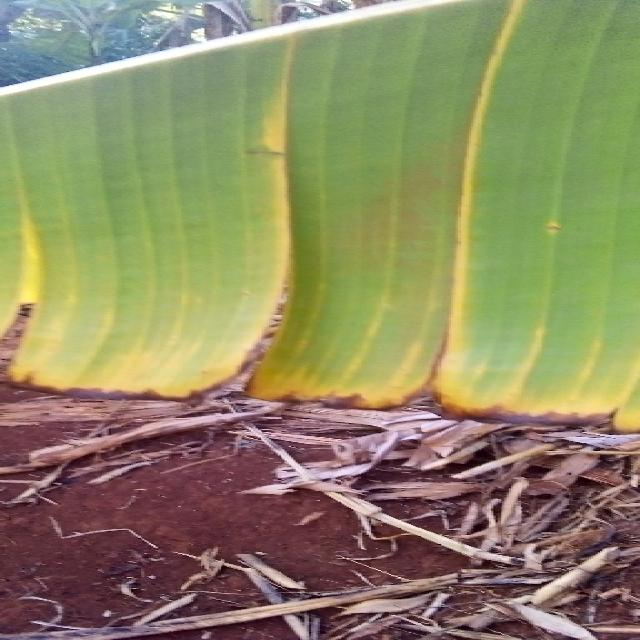Cordana: (0, 6, 640, 429)
